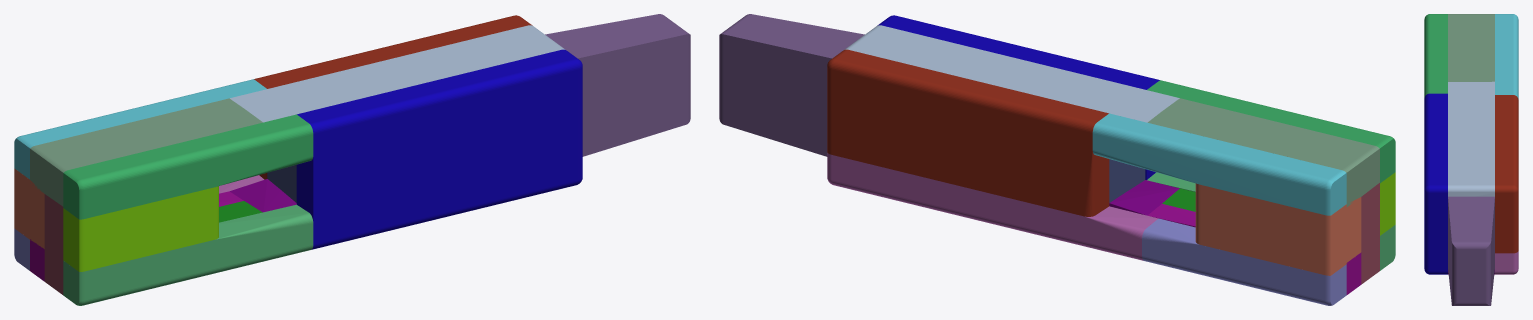
File: 2_body.obj
The picture shows the model from 3 angles, left to right: view 1: azimuth 30°, elevation 25°; view 2: azimuth 150°, elevation 25°; view 3: azimuth 270°, elevation 25°; orthographic projection. The views are drawn at different scales.
Parts seen in each view (by area): view 1: geometry_5, geometry_1, geometry_10, geometry_6, geometry_3, geometry_4, geometry_0, geometry_2, geometry_15, geometry_9, geometry_13, geometry_11 (+4 smaller); view 2: geometry_15, geometry_1, geometry_2, geometry_7, geometry_9, geometry_6, geometry_0, geometry_12, geometry_10, geometry_5, geometry_13, geometry_11 (+5 smaller); view 3: geometry_6, geometry_1, geometry_5, geometry_15, geometry_0, geometry_2, geometry_10, geometry_7.
Boxes of the visible parts, x1,y1,x2,y2 form: geometry_5: (296, 49, 582, 249); geometry_1: (545, 14, 690, 156); geometry_10: (63, 114, 313, 219); geometry_6: (230, 25, 565, 122); geometry_3: (63, 204, 313, 305); geometry_4: (63, 186, 218, 271); geometry_0: (30, 98, 262, 206); geometry_2: (14, 79, 266, 179); geometry_15: (254, 15, 532, 179); geometry_9: (14, 168, 44, 248); geometry_13: (44, 194, 63, 294); geometry_11: (230, 179, 296, 212); geometry_15: (827, 49, 1109, 216); geometry_1: (719, 14, 864, 156); geometry_2: (1092, 113, 1346, 215); geometry_7: (827, 153, 1158, 260); geometry_9: (1195, 183, 1361, 275); geometry_6: (844, 25, 1179, 122); geometry_0: (1147, 98, 1379, 206); geometry_12: (1142, 218, 1346, 305); geometry_10: (1147, 80, 1395, 183); geometry_5: (877, 15, 1159, 179); geometry_13: (1361, 183, 1379, 284); geometry_11: (1109, 180, 1179, 215); geometry_6: (1448, 81, 1494, 196); geometry_1: (1448, 196, 1494, 305); geometry_5: (1424, 93, 1447, 274); geometry_15: (1495, 95, 1518, 253); geometry_0: (1448, 14, 1494, 81); geometry_2: (1495, 14, 1518, 99); geometry_10: (1424, 14, 1447, 97); geometry_7: (1495, 251, 1518, 274).
Size of the model in its own units: 0.1264 by 0.024 by 0.023.
